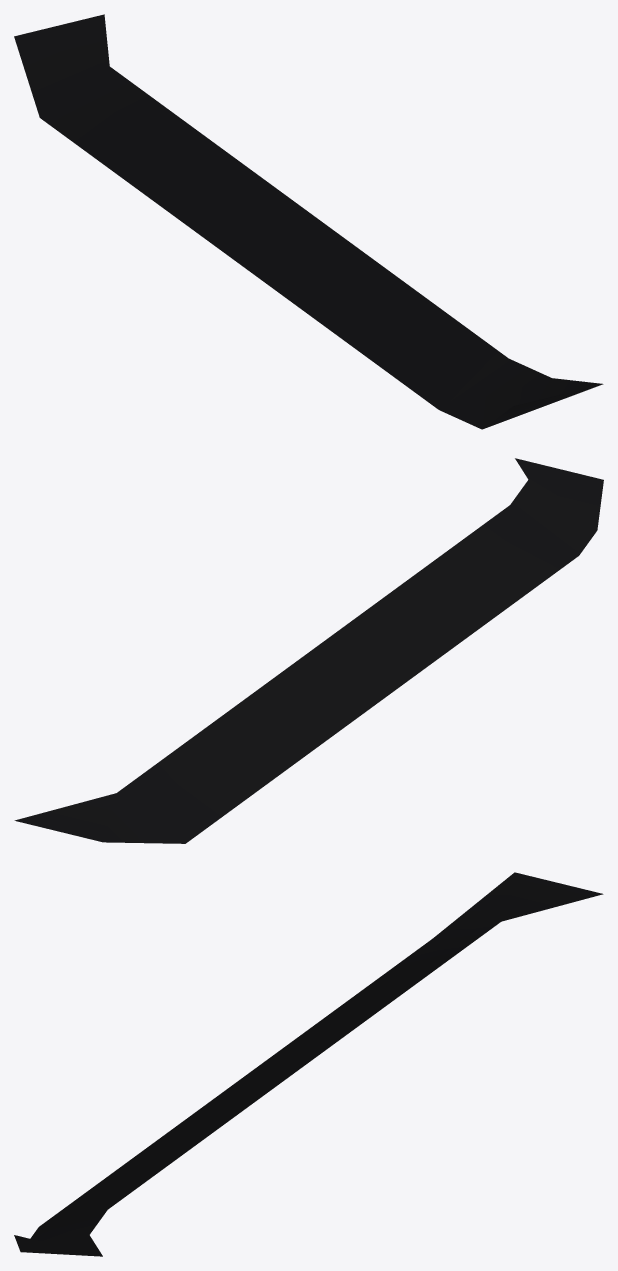
Rendered from skirt_R_stock.glb.
3 views of the same model, one above another, from view 1: azimuth 30°, elevation 25°; view 2: azimuth 150°, elevation 25°; view 3: azimuth 330°, elevation 25° (orthographic).
Parts seen in each view (by area): view 1: skirt_R_stock; view 2: skirt_R_stock; view 3: skirt_R_stock.
Part boxes in pixels (box(x1,y1,x2,y2)): skirt_R_stock: box(14, 14, 603, 429); skirt_R_stock: box(14, 458, 603, 843); skirt_R_stock: box(14, 872, 603, 1256).
Size of the model in its own units: 0.29 by 0.08 by 2.12.
1 material, 1 textured.
